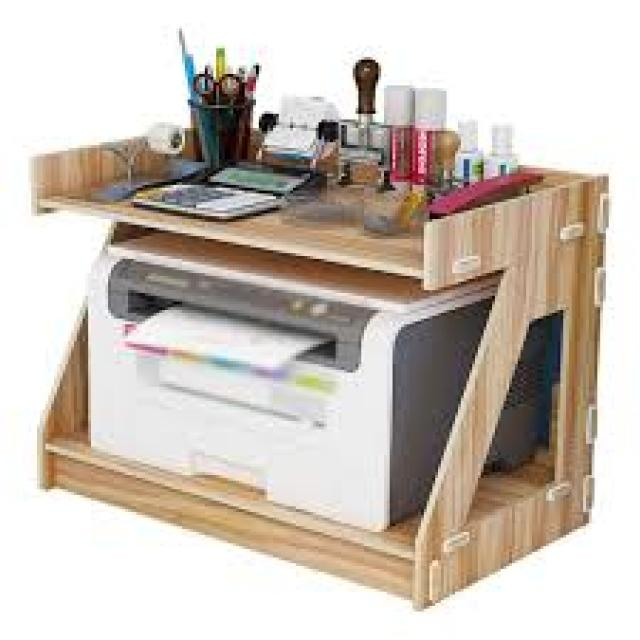printer: (82, 219, 549, 535)
